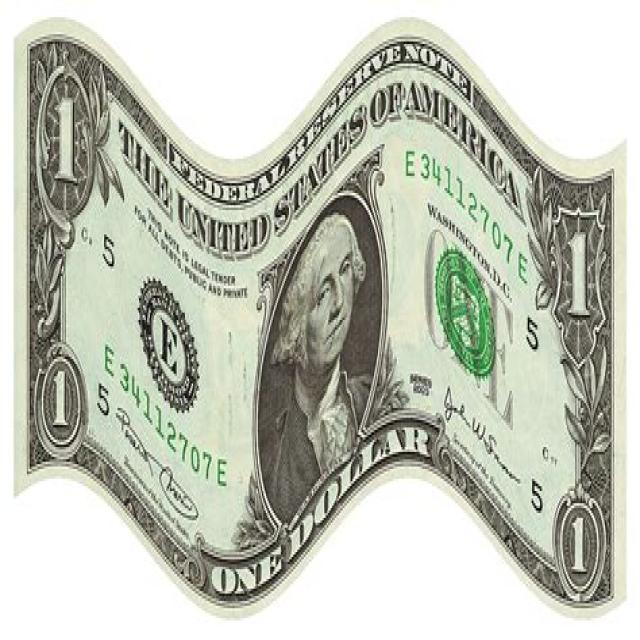One: (12, 14, 627, 616)
